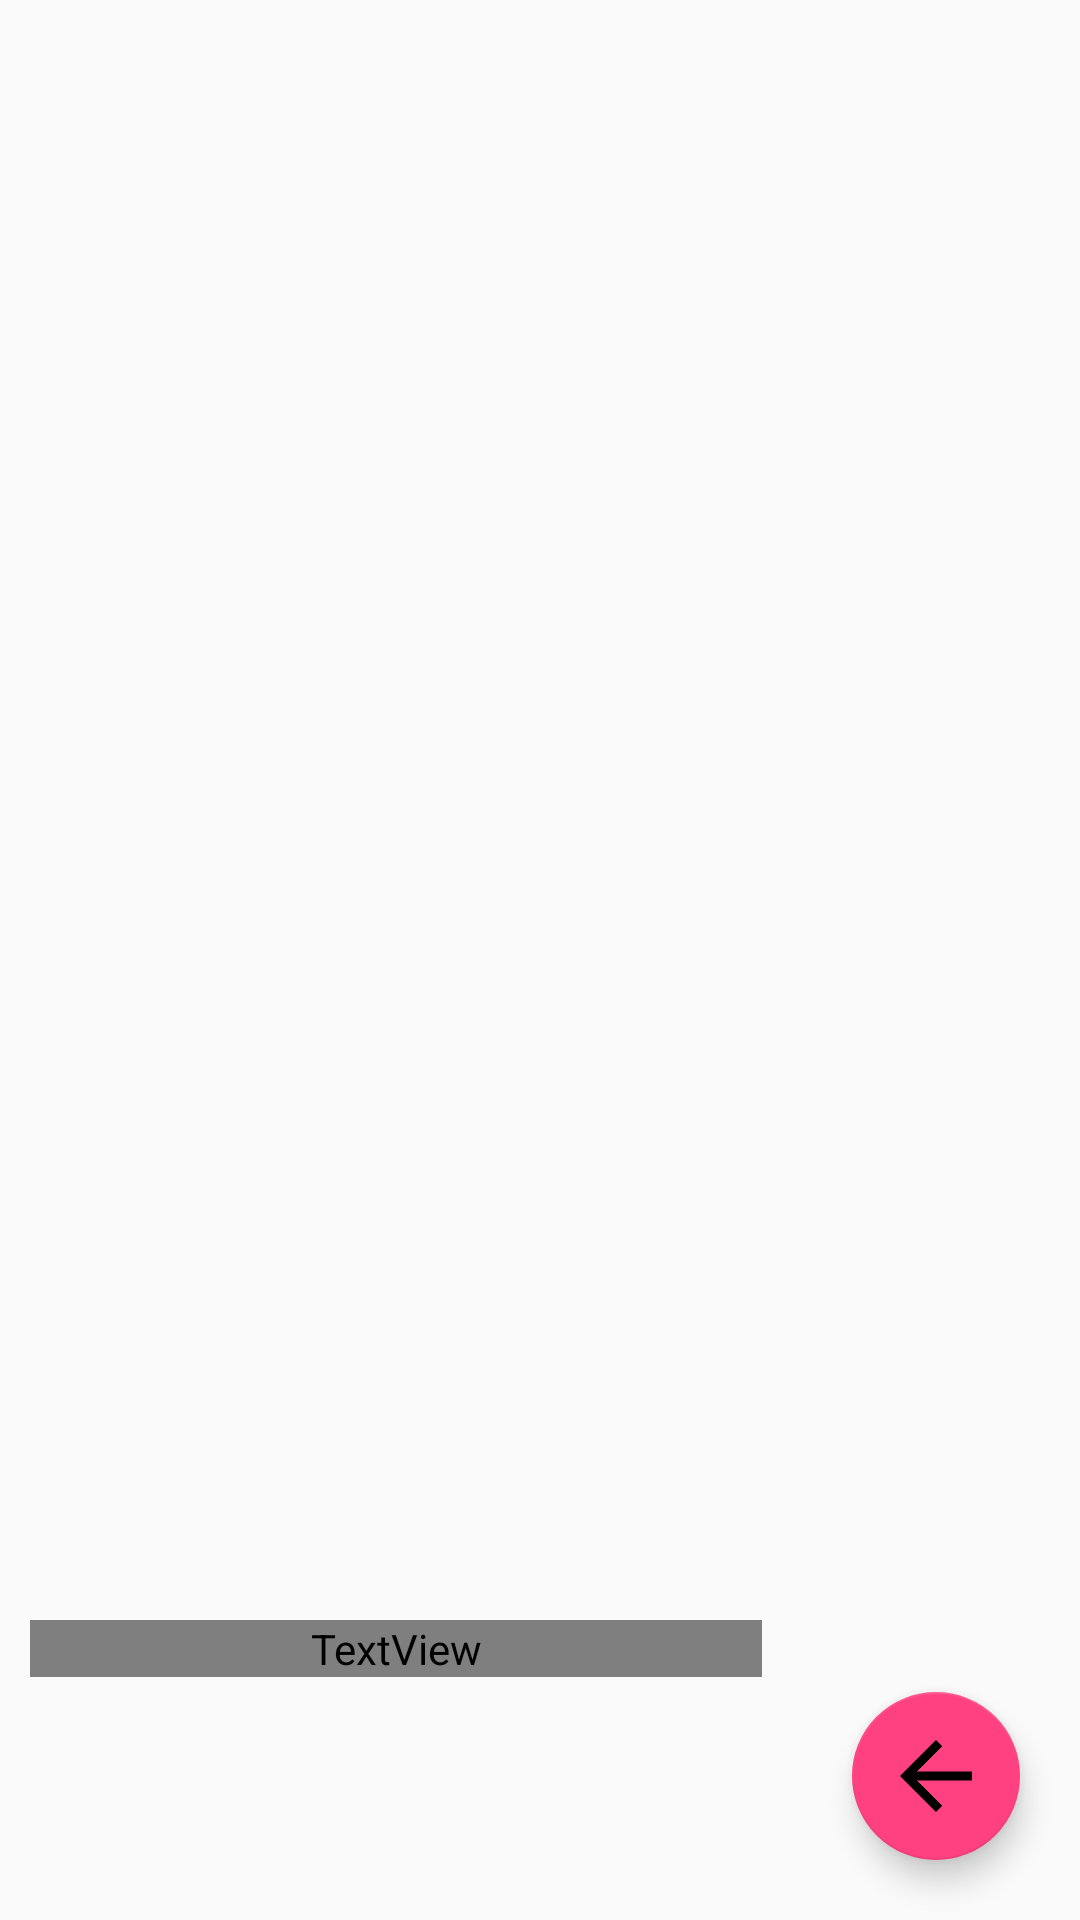

Where icons sit on this 1080px×1920px app screen, as [x1,y1,x2,y2]:
back: [852,1692,1020,1860]
